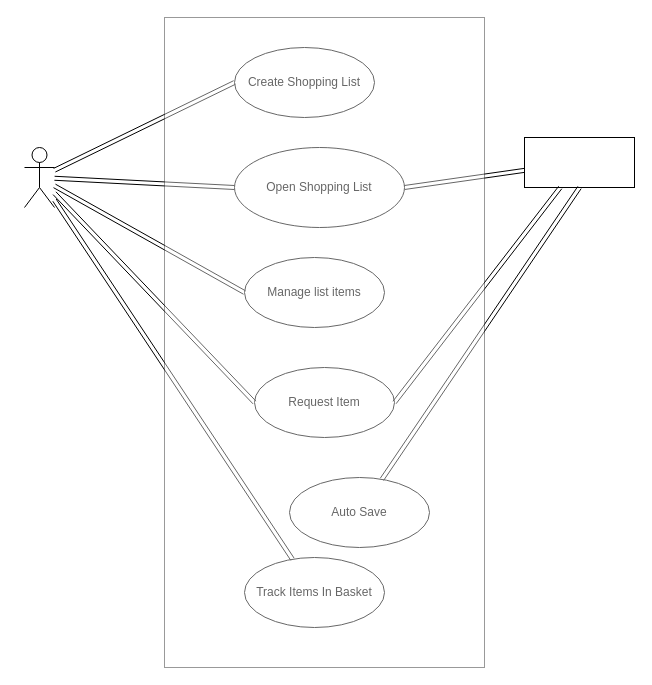
Image size: 652x685. Some labels were removed from this diagram. Each missing label, with the centre of its shape:
Shopper: [39,177]
«actor» DB: [579,162]
